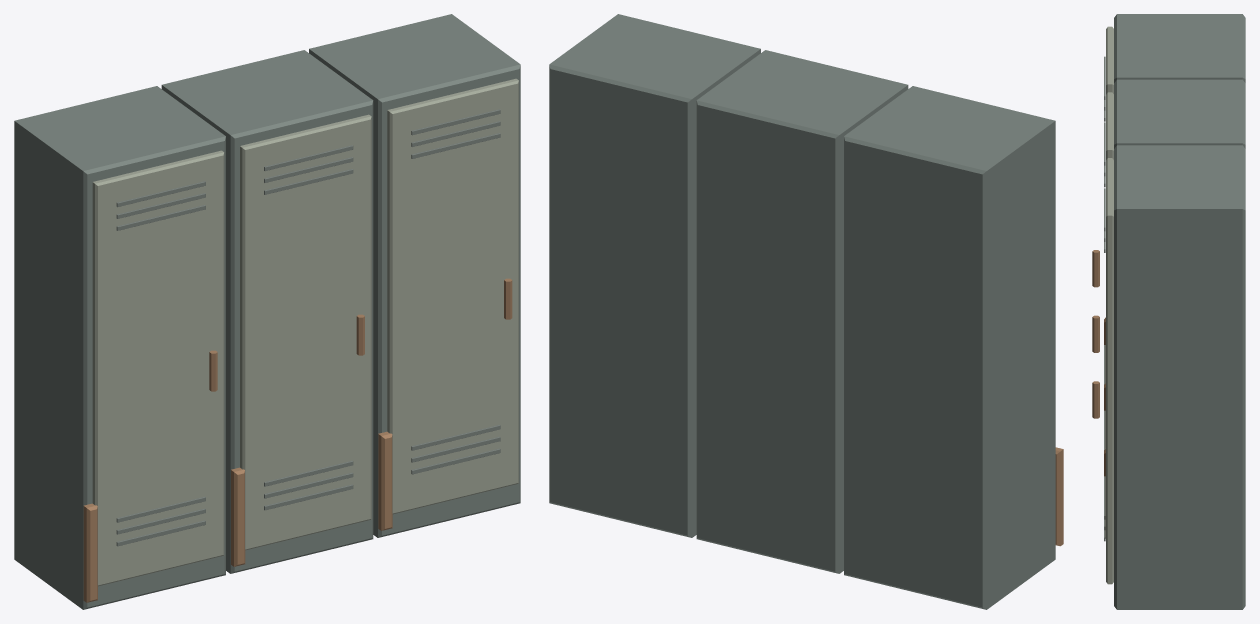
Rendered from LockerProps.fbx.
3 views of the same model, side by side, from view 1: azimuth 30°, elevation 25°; view 2: azimuth 150°, elevation 25°; view 3: azimuth 270°, elevation 25° (orthographic). The views are drawn at different scales.
Parts seen in each view (by area): view 1: LockerDoors__WornSteel, LockerBodies__Steel, Vents__ConcreteDark, CorrodedHinge__Rust, Handles__Rust; view 2: LockerBodies__Steel, CorrodedHinge__Rust; view 3: LockerBodies__Steel, LockerDoors__WornSteel, Handles__Rust, Vents__ConcreteDark, CorrodedHinge__Rust.
Boxes of the visible parts, x1,y1,x2,y2 form: LockerDoors__WornSteel: [92, 78, 518, 586]; LockerBodies__Steel: [14, 14, 520, 609]; Vents__ConcreteDark: [116, 109, 500, 546]; CorrodedHinge__Rust: [83, 431, 392, 602]; Handles__Rust: [209, 278, 512, 391]; LockerBodies__Steel: [549, 14, 1055, 609]; CorrodedHinge__Rust: [1055, 447, 1063, 546]; LockerBodies__Steel: [1114, 14, 1245, 609]; LockerDoors__WornSteel: [1106, 26, 1113, 584]; Handles__Rust: [1092, 250, 1099, 418]; Vents__ConcreteDark: [1104, 56, 1105, 541]; CorrodedHinge__Rust: [1104, 317, 1105, 538].
Size of what is drawn, in the model's own units: 1.94 by 1.85 by 0.641.
